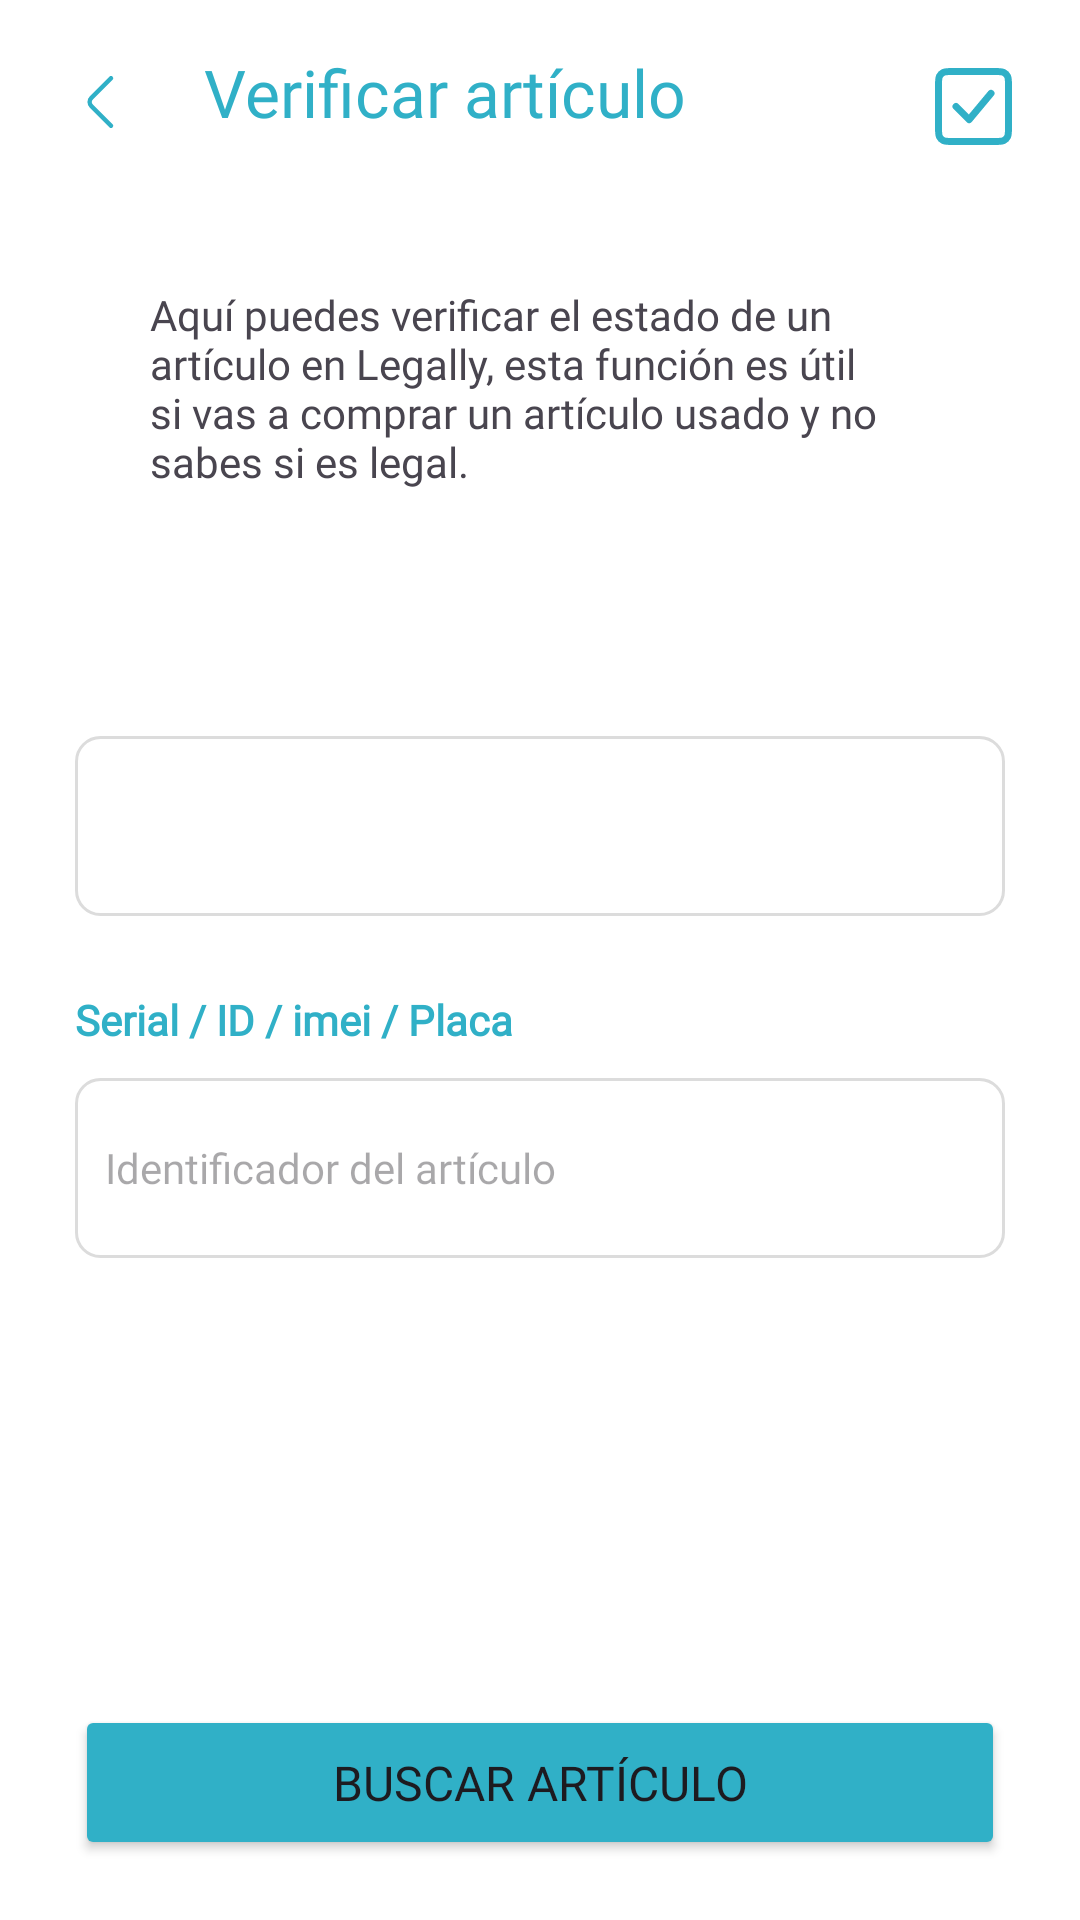

Where to tap for icons on this 1080*1920 app screen, as [x,y]:
Botón para regresar: [100,102]
checkbox: [973,106]
